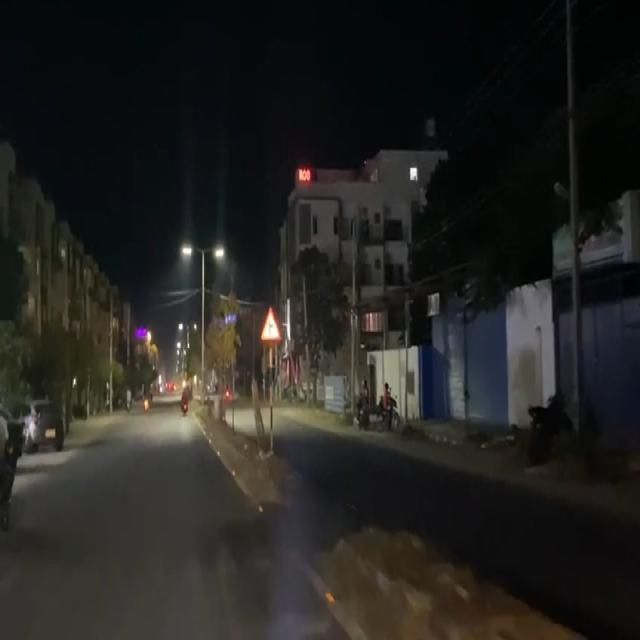bien_nguy_hiem: (259, 305, 281, 345)
